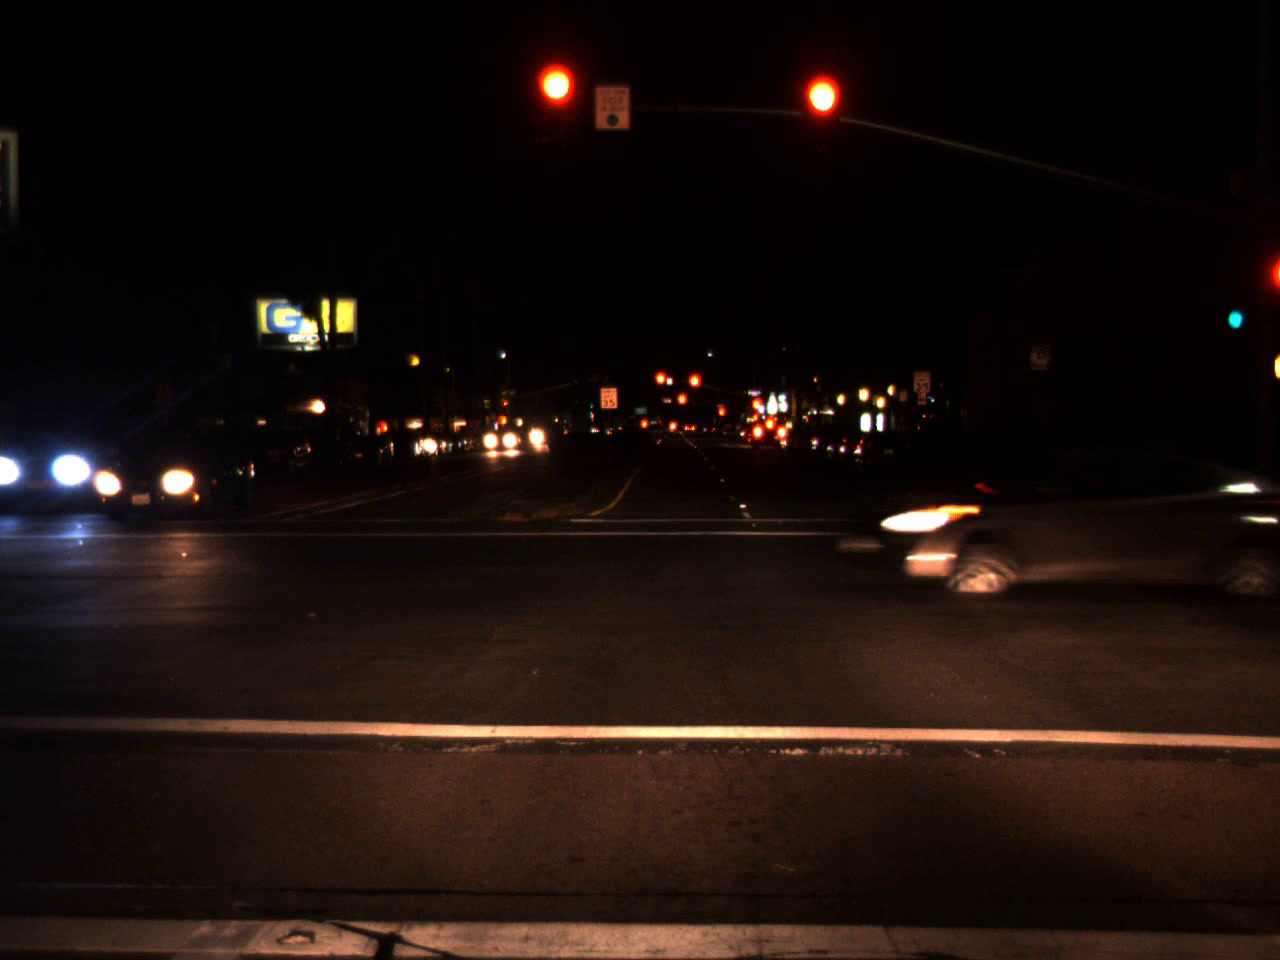stop: (538, 65, 578, 143), (800, 75, 840, 153), (653, 370, 671, 399), (686, 371, 702, 403), (674, 391, 689, 418), (750, 396, 763, 414), (503, 399, 509, 412), (719, 408, 725, 421)
